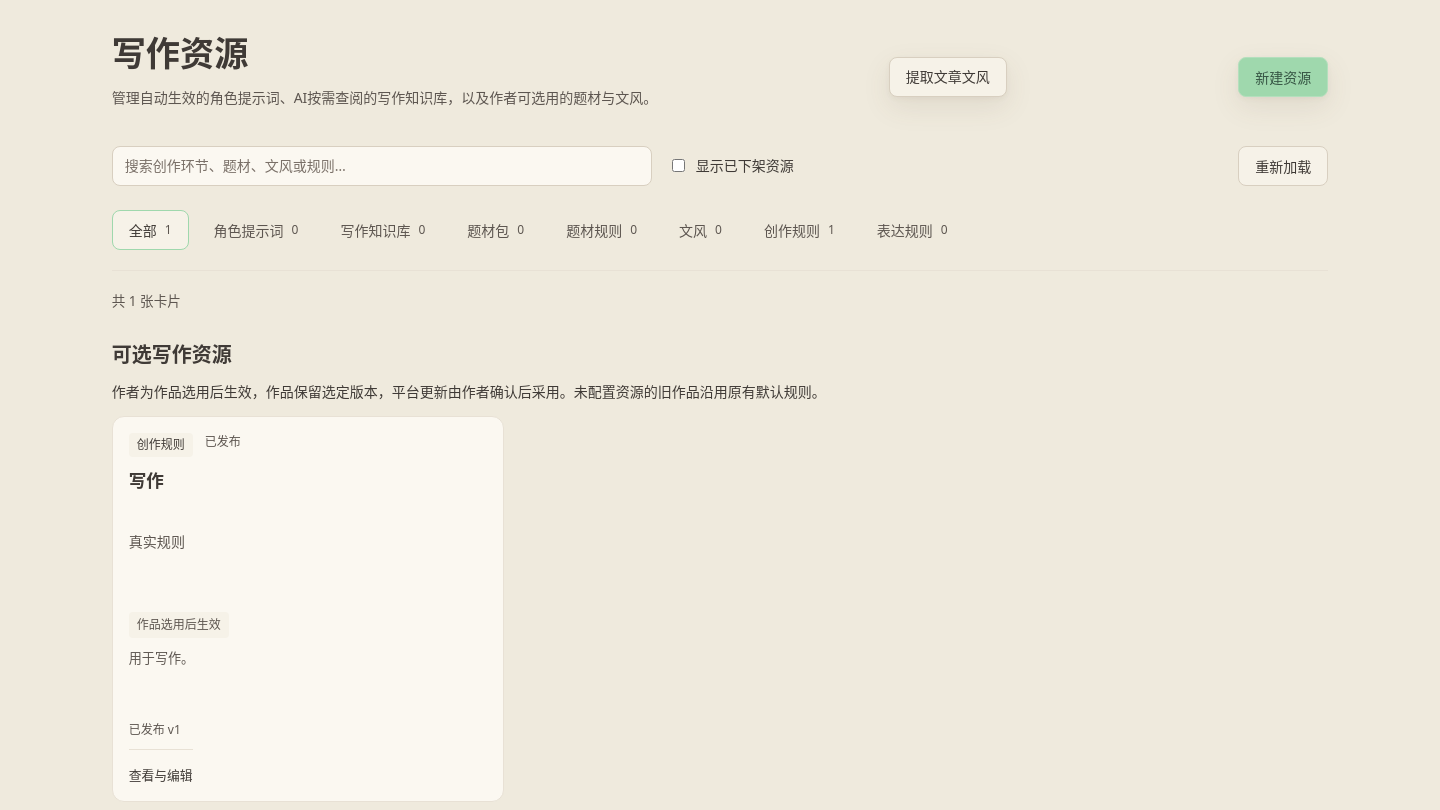
cancelled edits do not save; conflict preserves draft
Click the button with aria-label "编辑 写作" at (308, 609), box top-left (112, 416), bottom-right (504, 802)
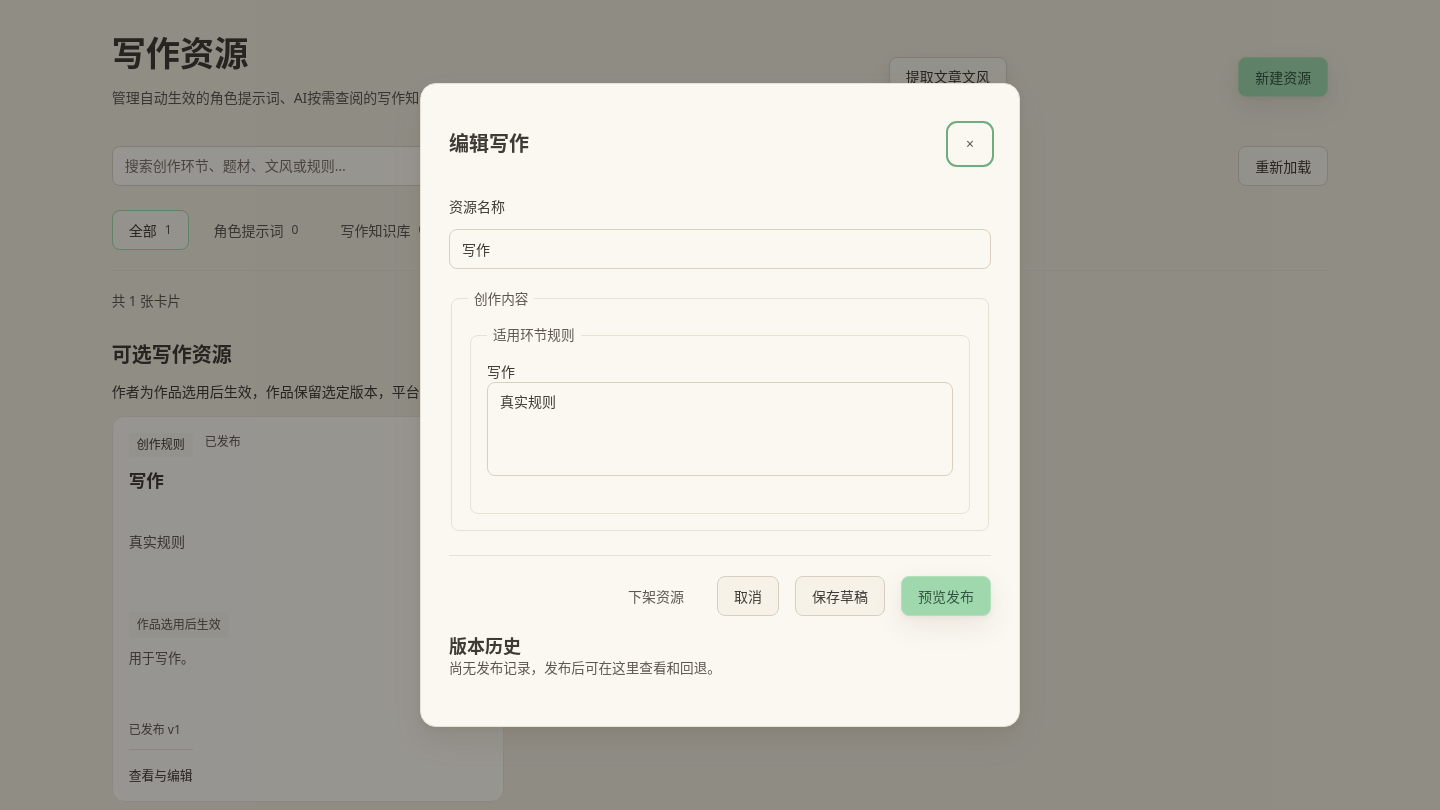
Replace the text in the field labelled "资源名称" with "我的草稿" at (720, 249), box top-left (449, 229), bottom-right (991, 269)
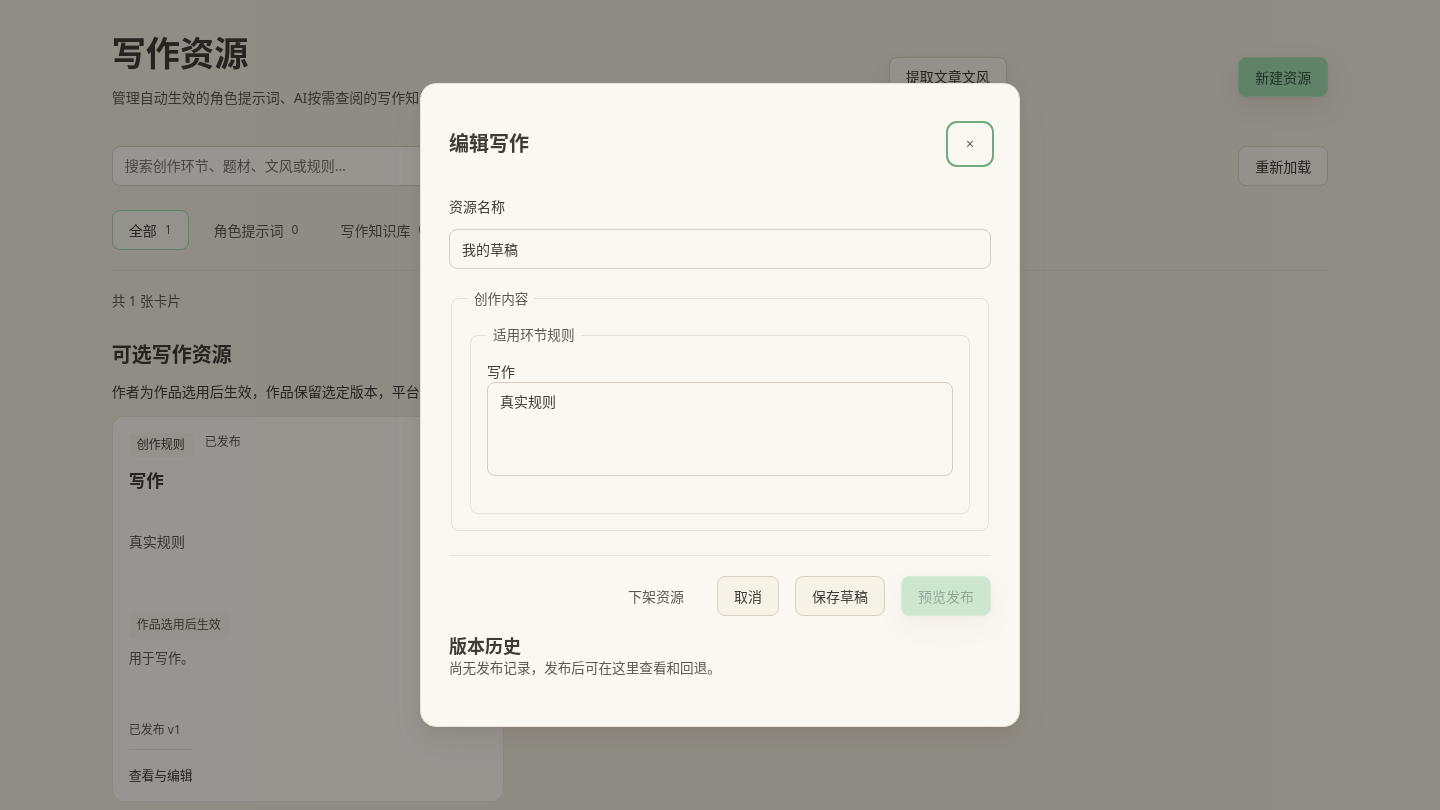
Click the button "取消" at (748, 596), box top-left (717, 576), bottom-right (779, 616)
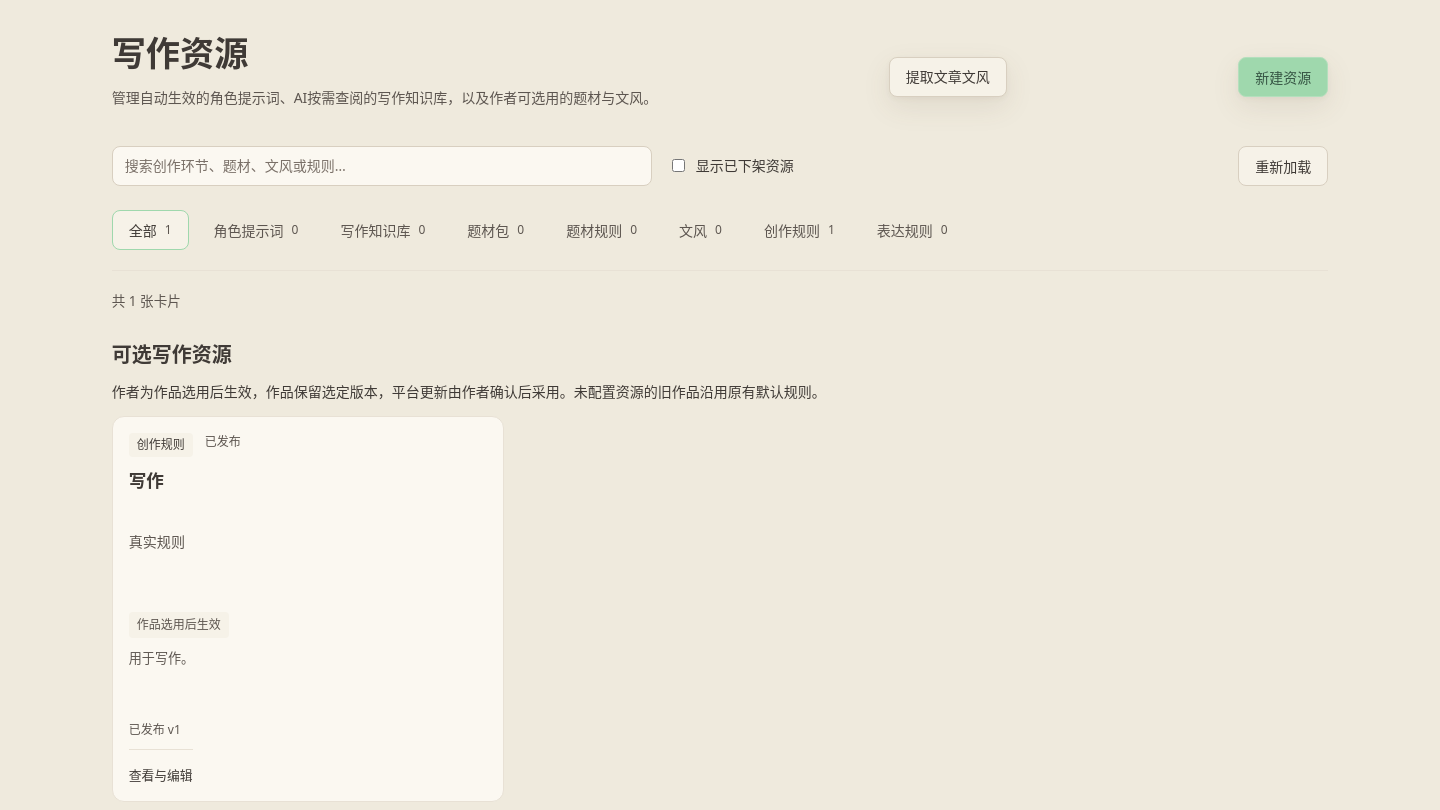
Click the button with aria-label "编辑 写作" at (308, 609), box top-left (112, 416), bottom-right (504, 802)
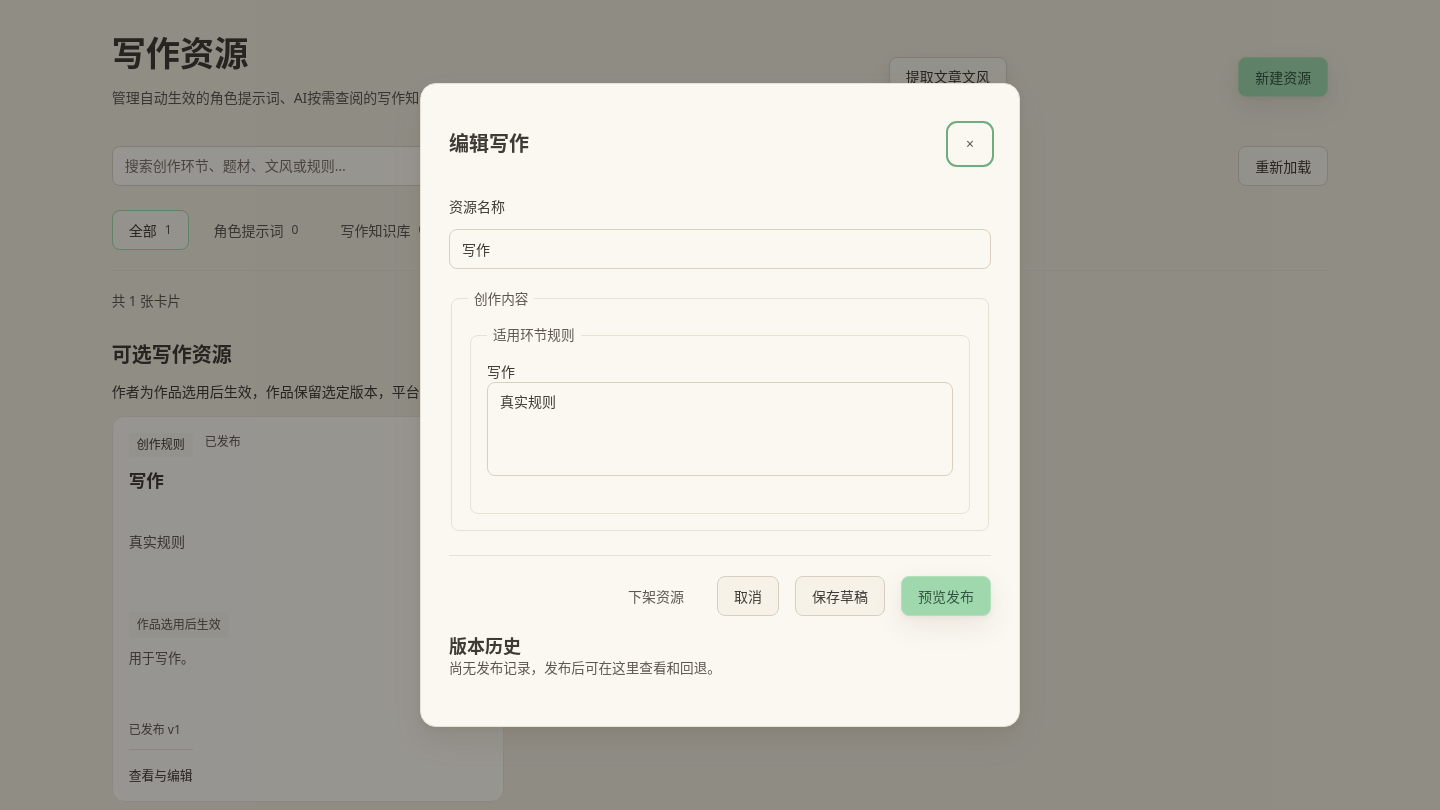
Replace the text in the field labelled "资源名称" with "保留草稿" at (720, 249), box top-left (449, 229), bottom-right (991, 269)
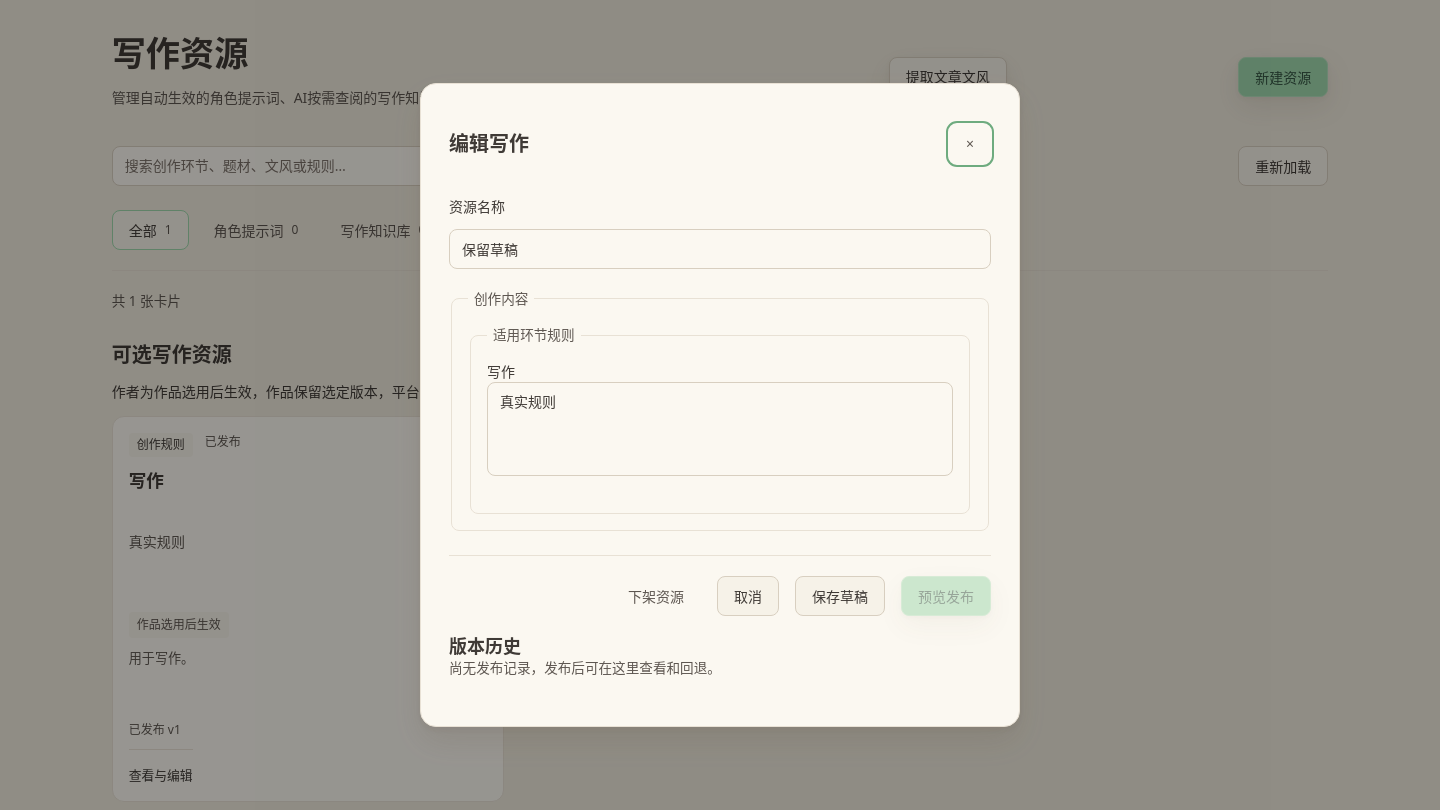
Click the button "保存草稿" at (840, 596), box top-left (795, 576), bottom-right (885, 616)
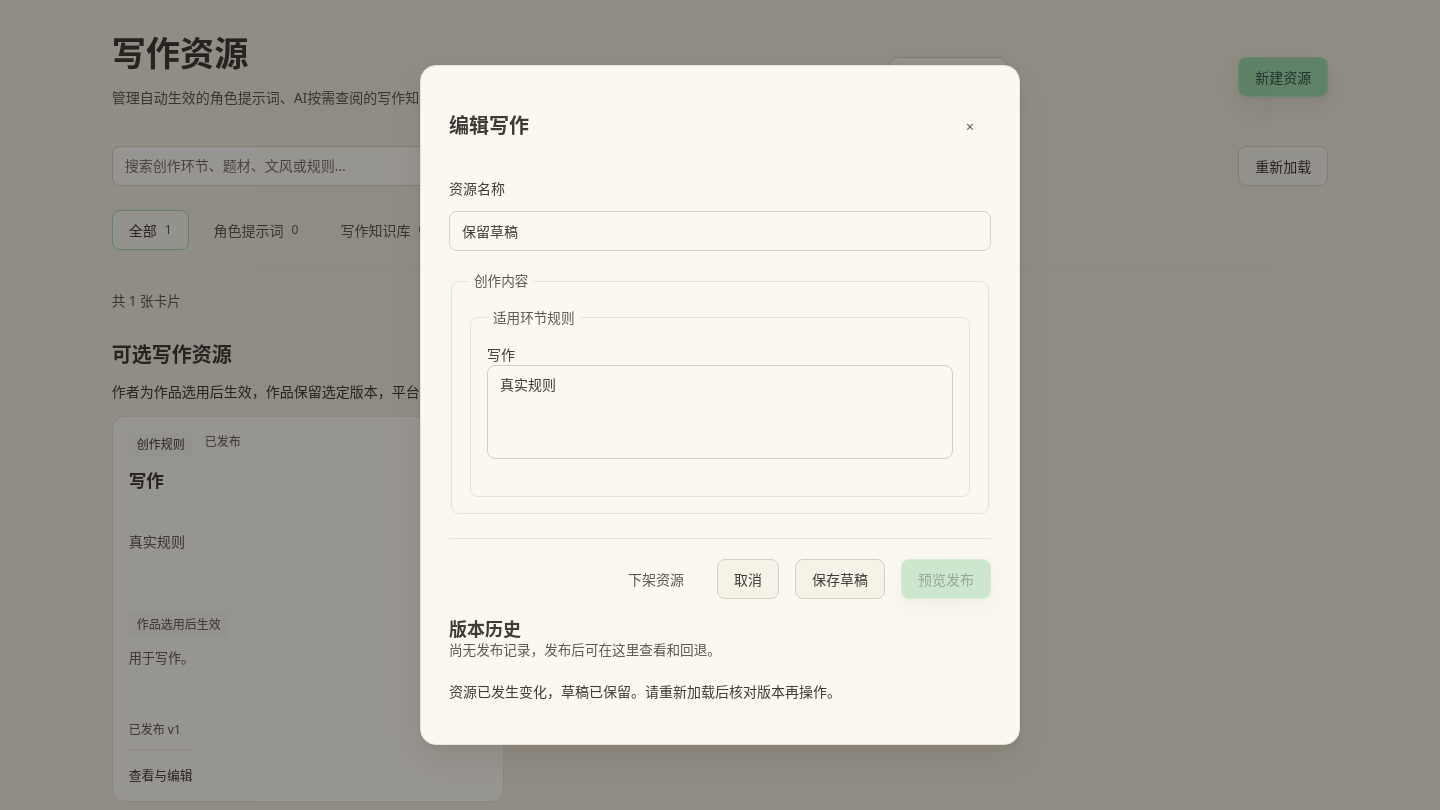
Now the text "资源已发生变化，草稿已保留。请重新加载后核对版本再操作。" is shown, box top-left (449, 682), bottom-right (841, 701)
